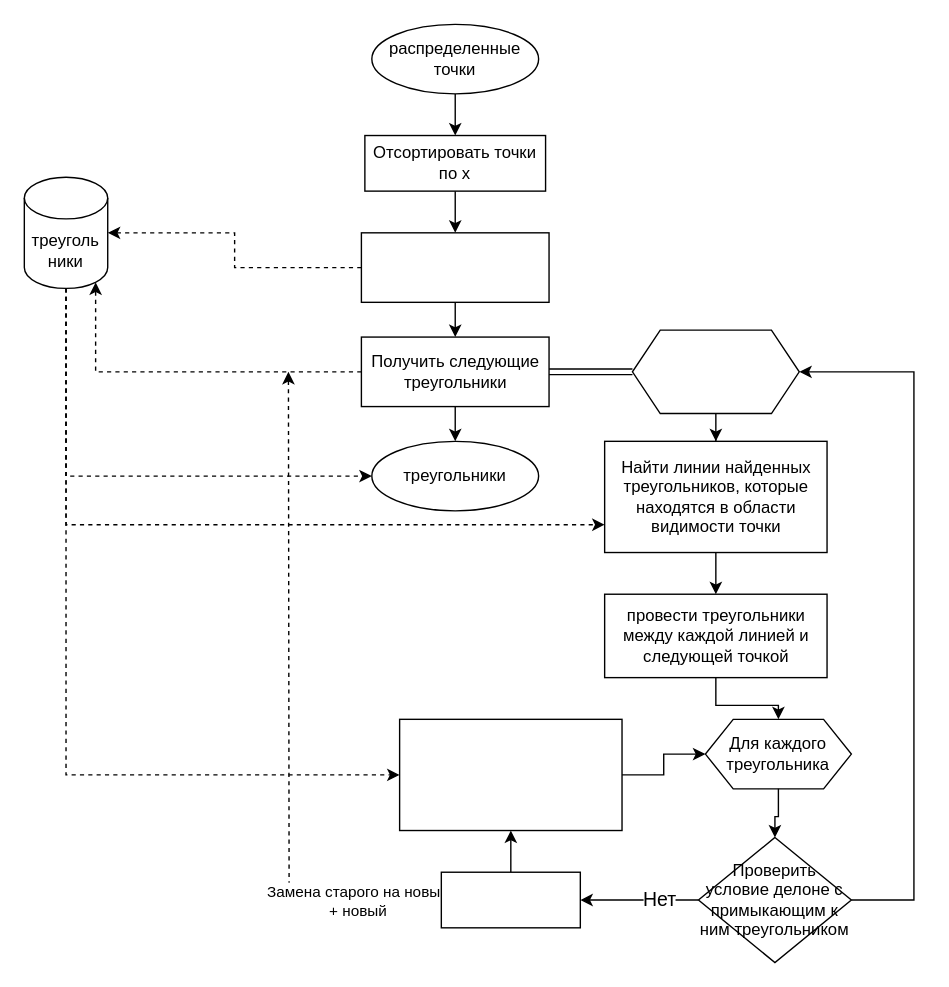
Some shapes in this 949 by 987 pixel diagram are drawn without their labels. The shapes that lost their labels are listed below. From the top down, each one's centre as x and y in pixels, then its label:
the point at 454,266: Получить начальный треугольник из первых 3 точек
the point at 715,371: Для каждой следующей точки
the point at 510,774: Выбрать трегольники примыкающие к сторонам примыкающего треугольника
the point at 510,899: Реверсировать треугольники
